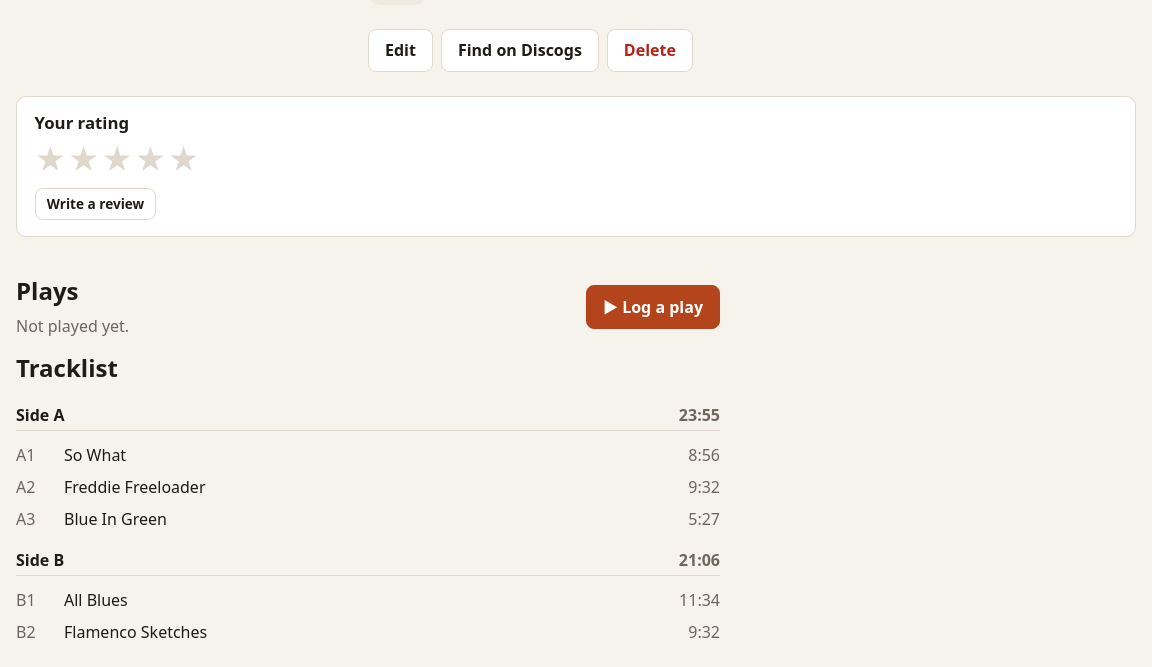
Test: Log a play › can log a play from earlier, with a typed length and notes
(page scrolled)
Click the button "▶ Log a play": point(653, 307) [586, 285, 720, 329]
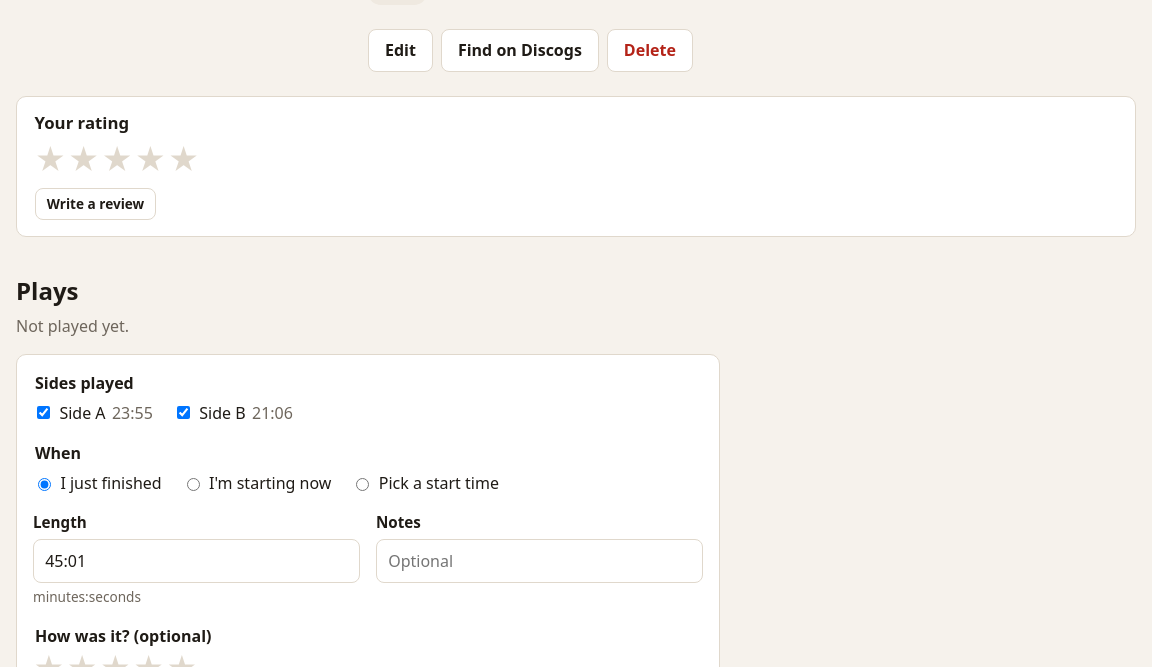
Click the radio button labelled "Pick a start time": point(363, 485) [356, 478, 369, 491]
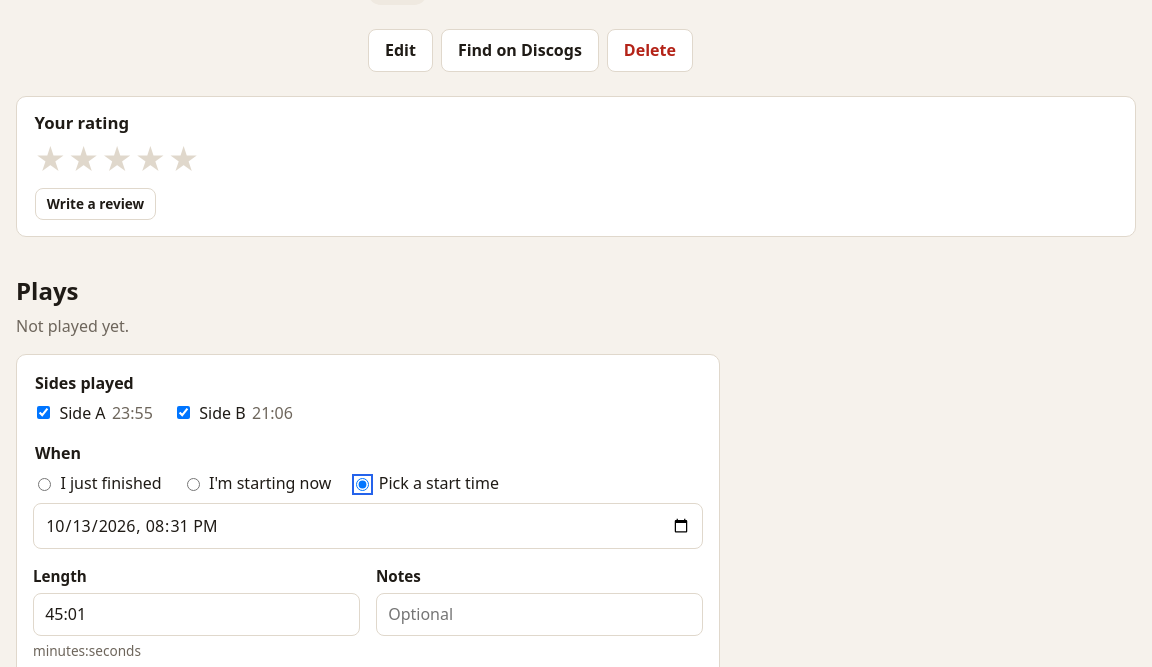
Replace the text in the field named "Start time" with "2026-10-01T20:30": point(368, 526) [33, 503, 703, 549]
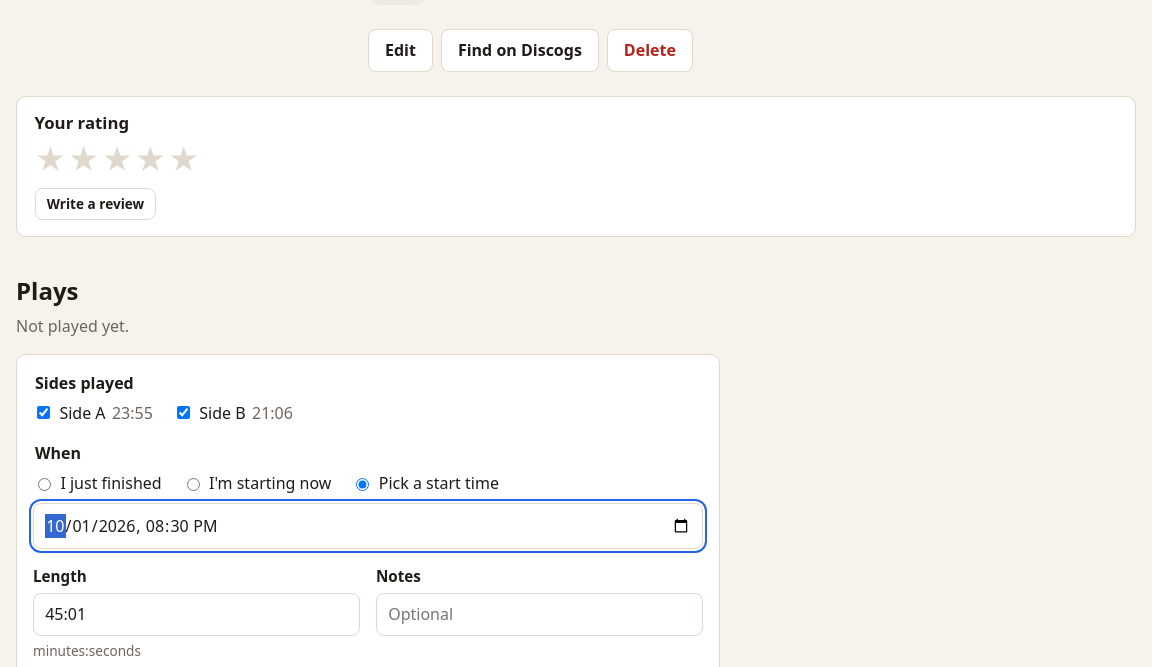
Replace the text in the field labelled "Length" with "30:00": point(196, 614) [33, 592, 360, 636]
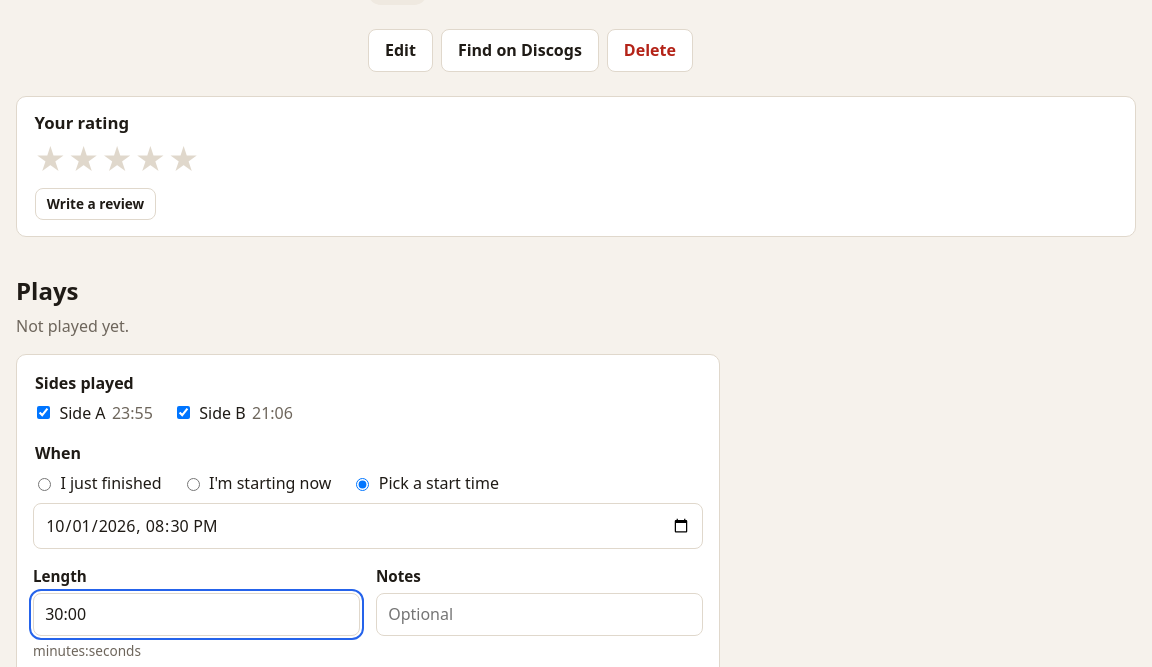
In the field labelled "Notes": point(540, 614) [376, 592, 703, 636], type "With friends"
(page scrolled)
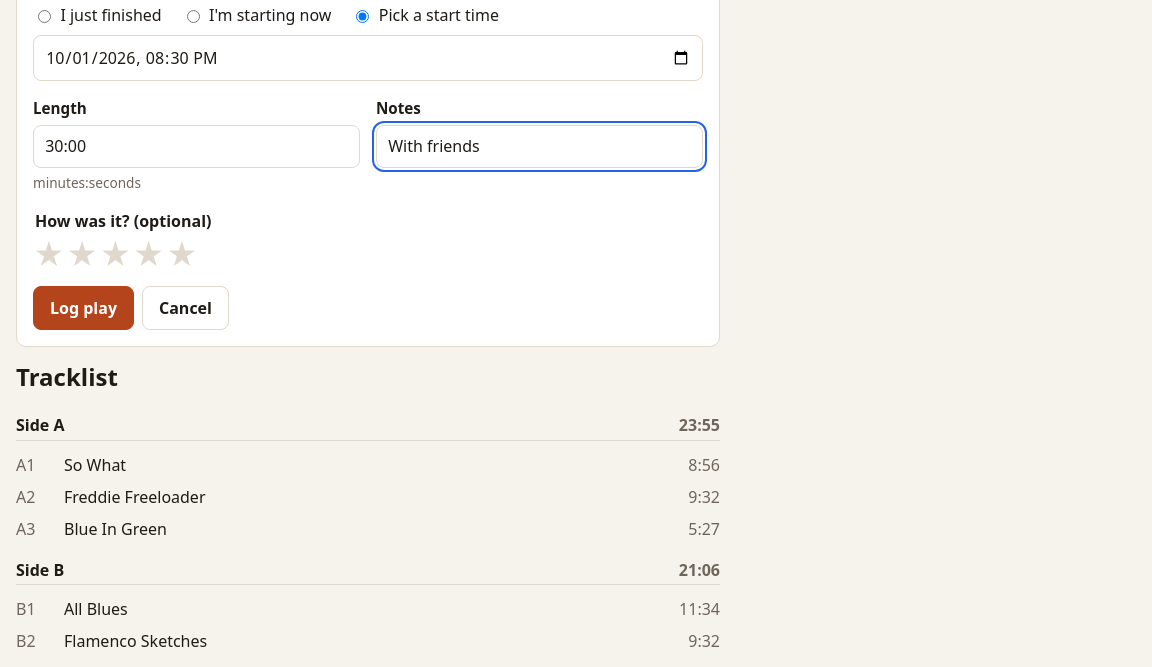
Click the button "Log play": point(84, 308) [33, 286, 134, 330]
(page scrolled)
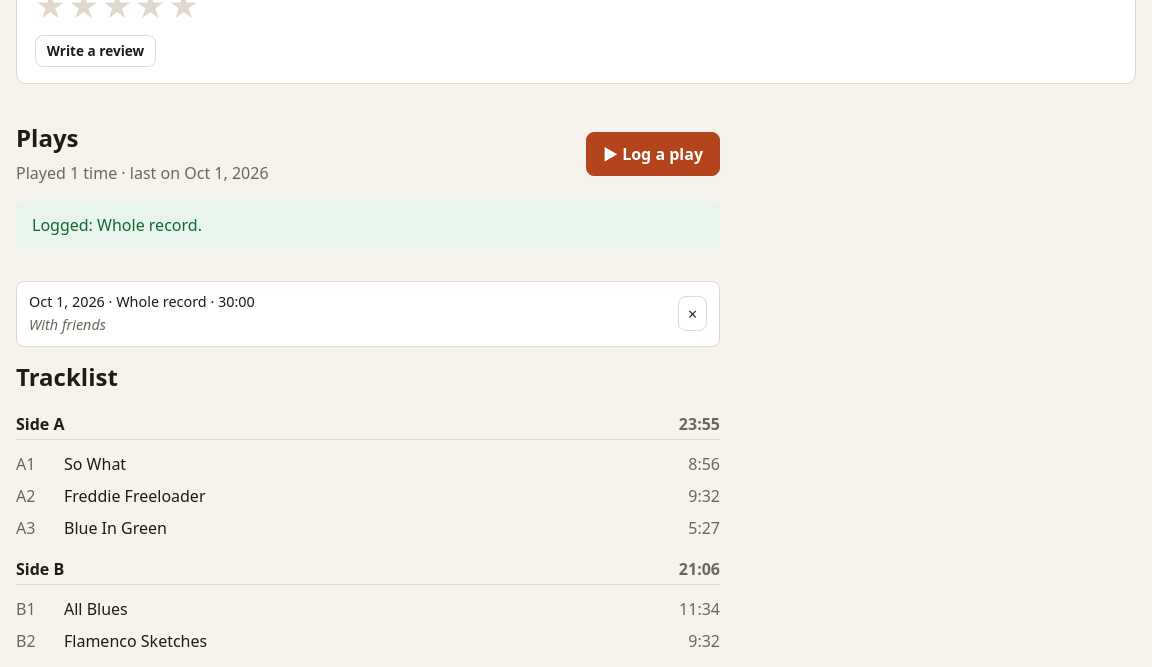
Now the text "Logged: Whole record." is shown, box [16, 201, 720, 249]
